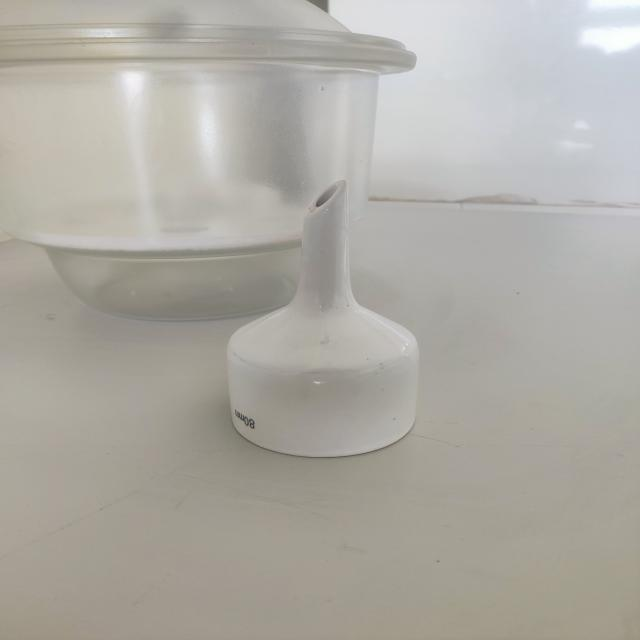Buchner_Funnel: (199, 151, 457, 486)
